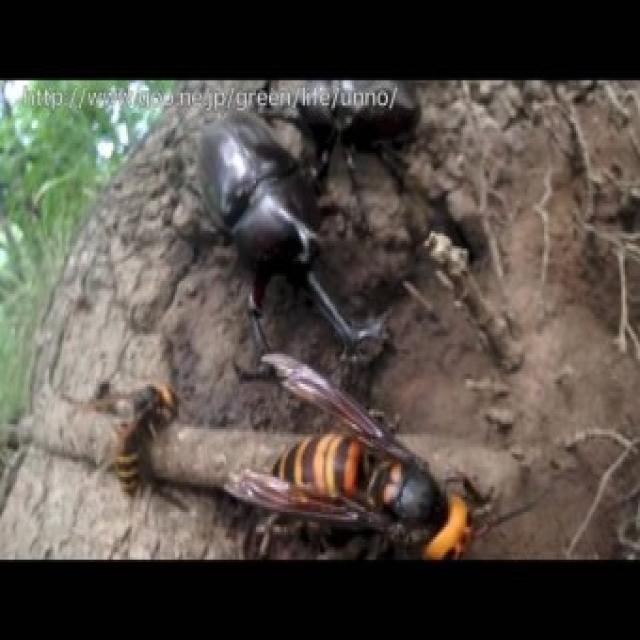Wasp: (261, 360, 478, 558), (77, 364, 177, 502)
